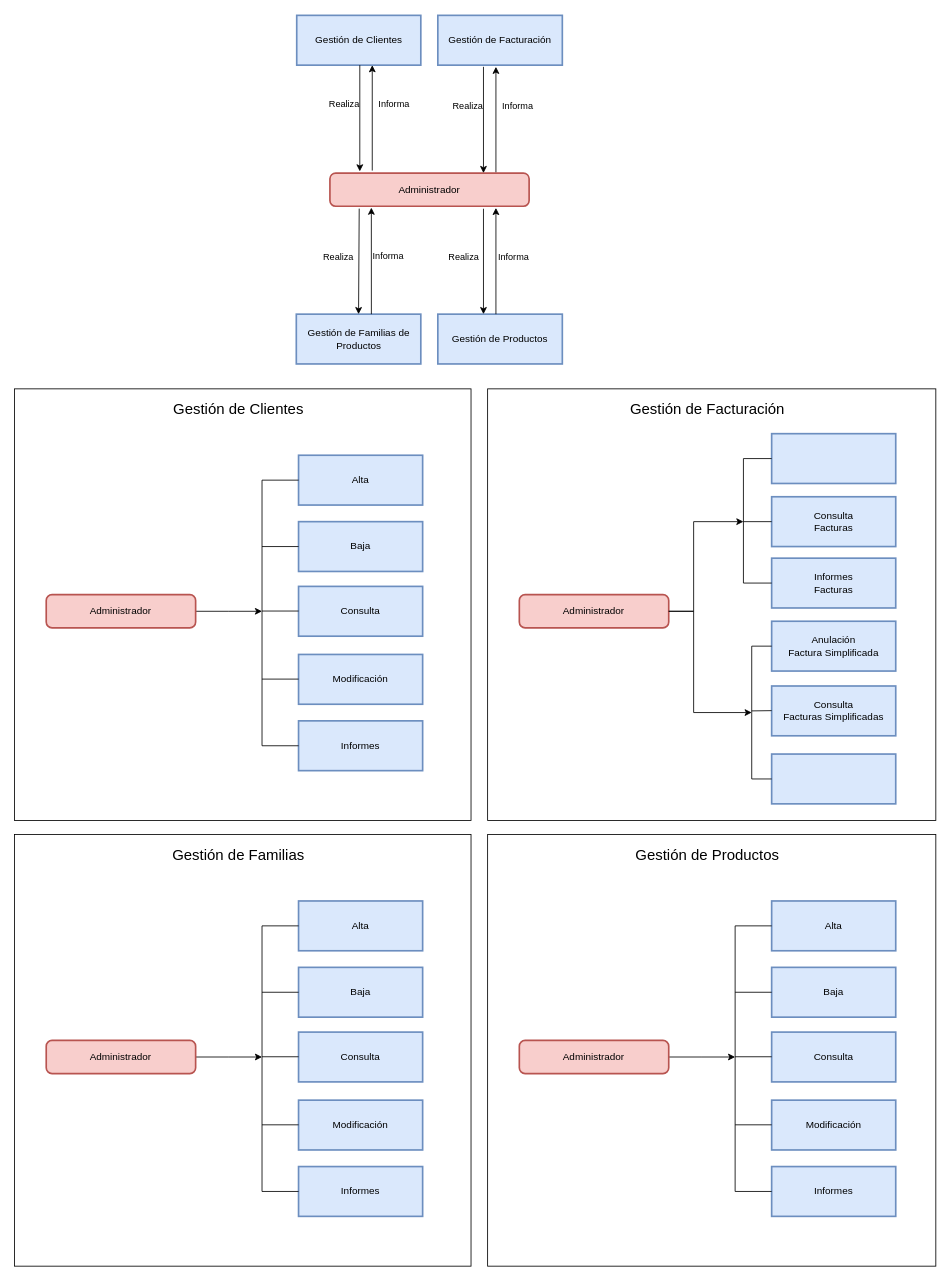
This 950x1281 diagram has some shape labels left out. Each missing label, with the centre of its shape:
"Anulación Factura" goes at (833,458).
"Informes Facturas Simplificadas" goes at (833,778).
